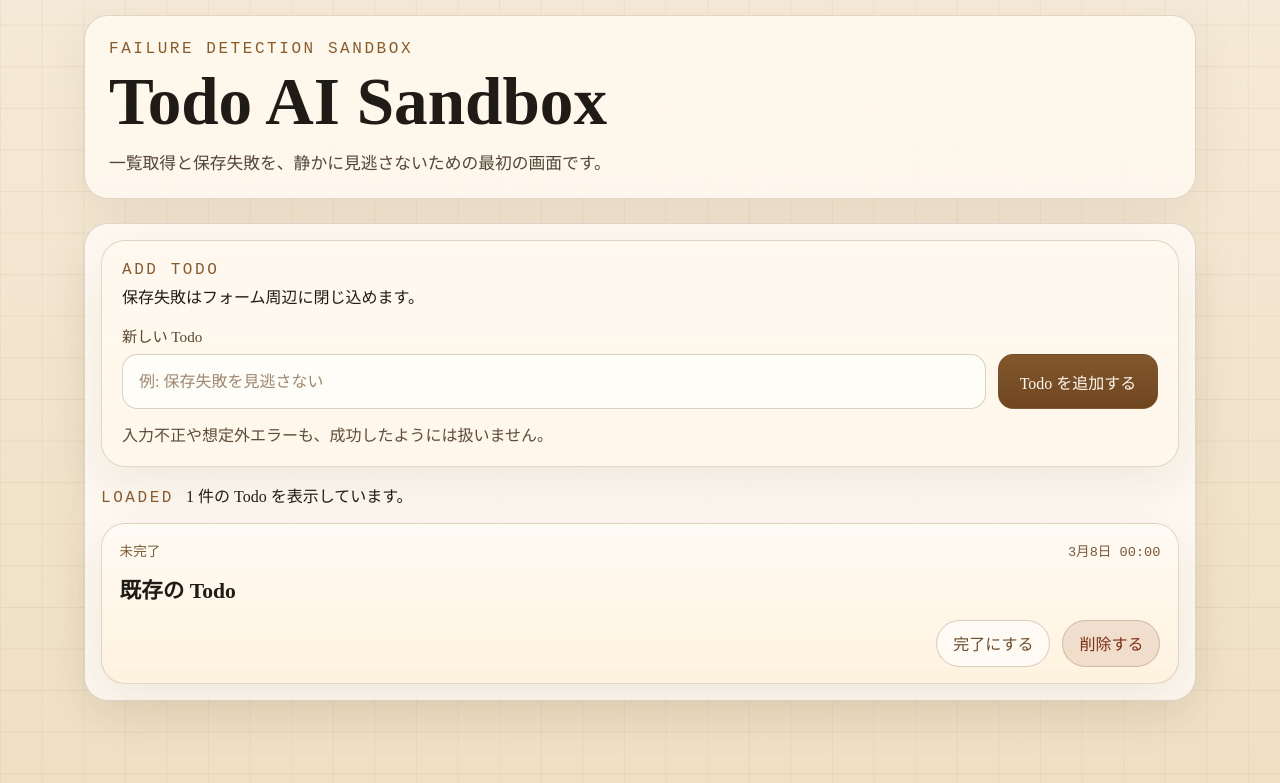
Scenario: App › 保存が 5xx で失敗したときは成功したように見せず、一覧も維持する
Check: the heading "既存の Todo" is shown, box [120,579,236,603]
Type "保存に失敗する Todo" into the field labelled "新しい Todo" at (554, 382), box [122,354,986,409]
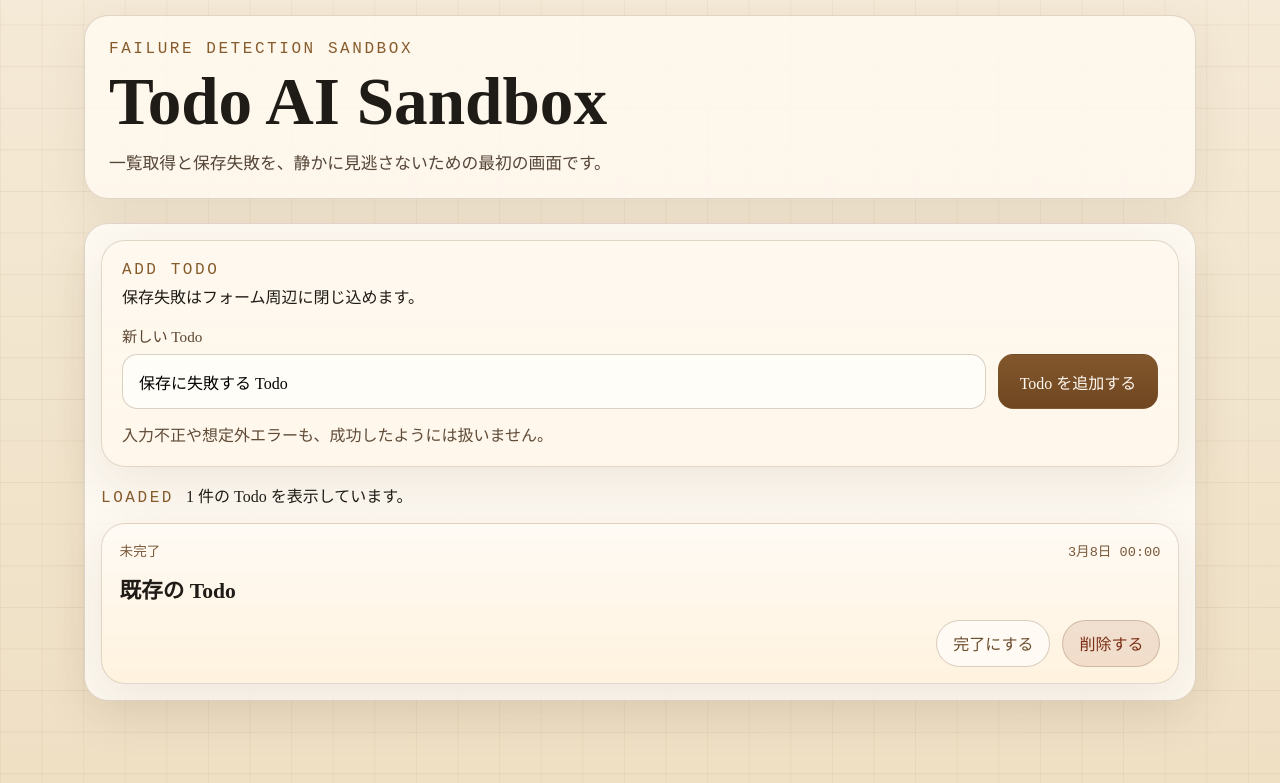
Click the button "Todo を追加する" at (1078, 382), box [998,354,1158,409]
(page scrolled)
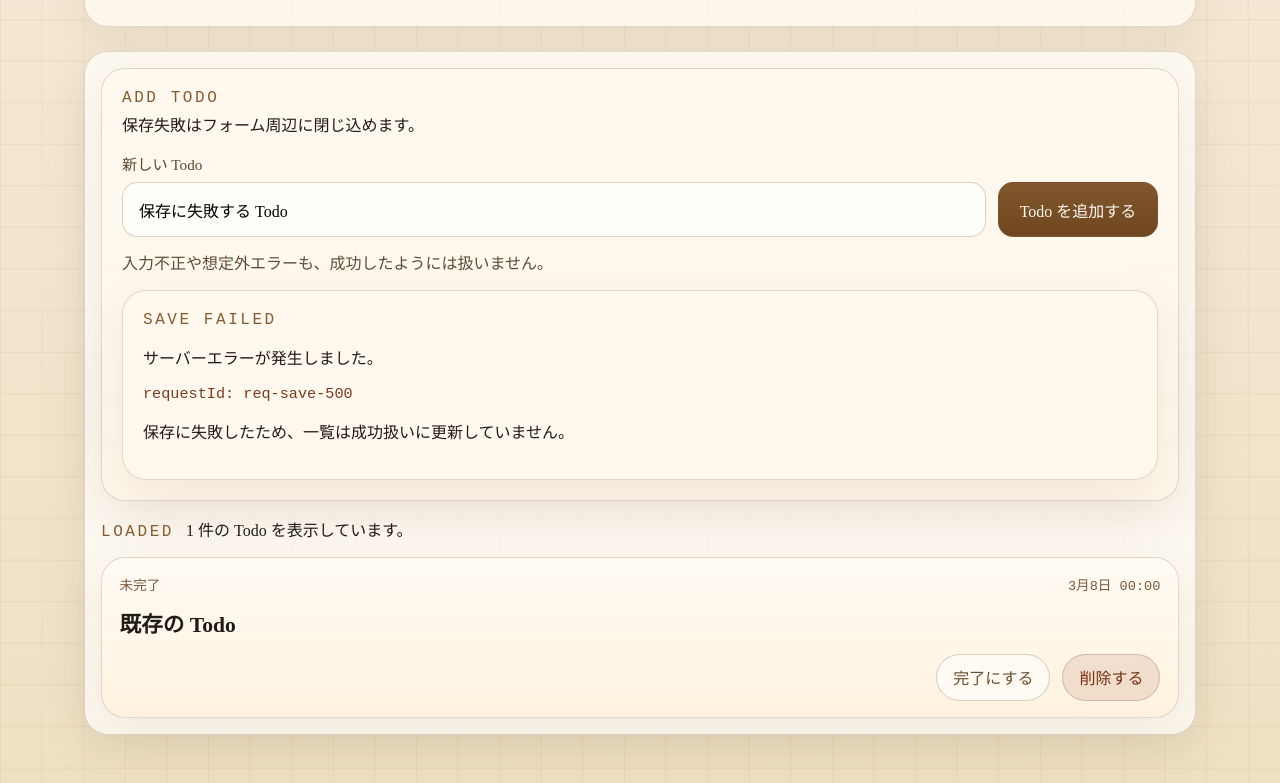
Check: the text "サーバーエラーが発生しました。" is shown, box [143,350,383,367]
Check: the text "requestId: req-save-500" is shown, box [143,385,353,403]
Check: the text "保存に失敗したため、一覧は成功扱いに更新していません。" is shown, box [143,424,574,441]
